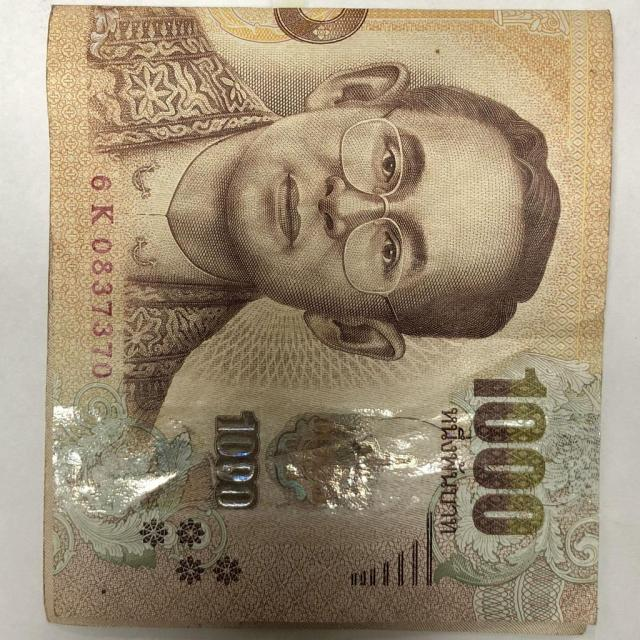THAI1000: (42, 5, 614, 629)
